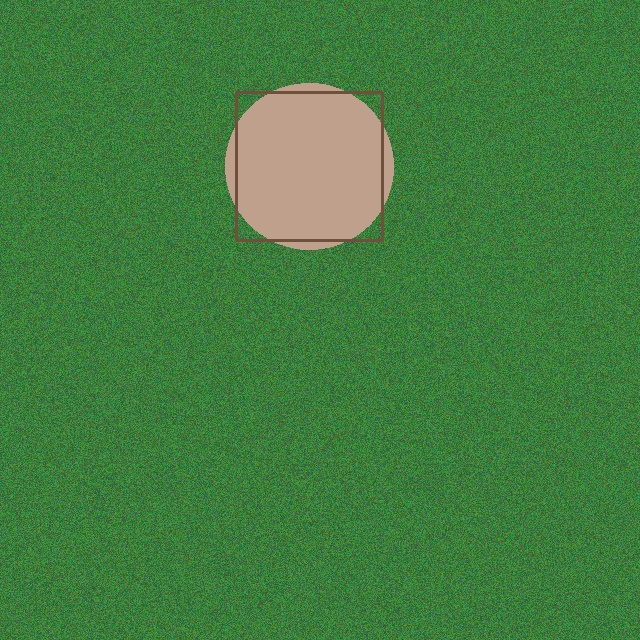corn borer: (226, 82, 392, 250)
